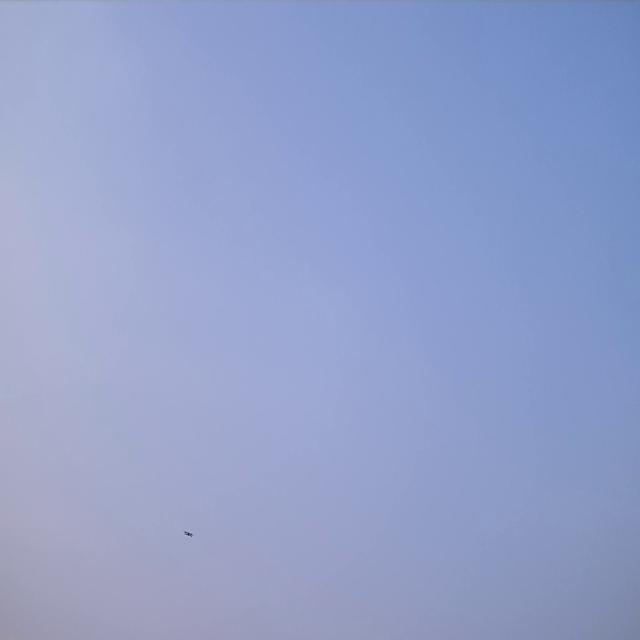UAV: (183, 528, 195, 540)
